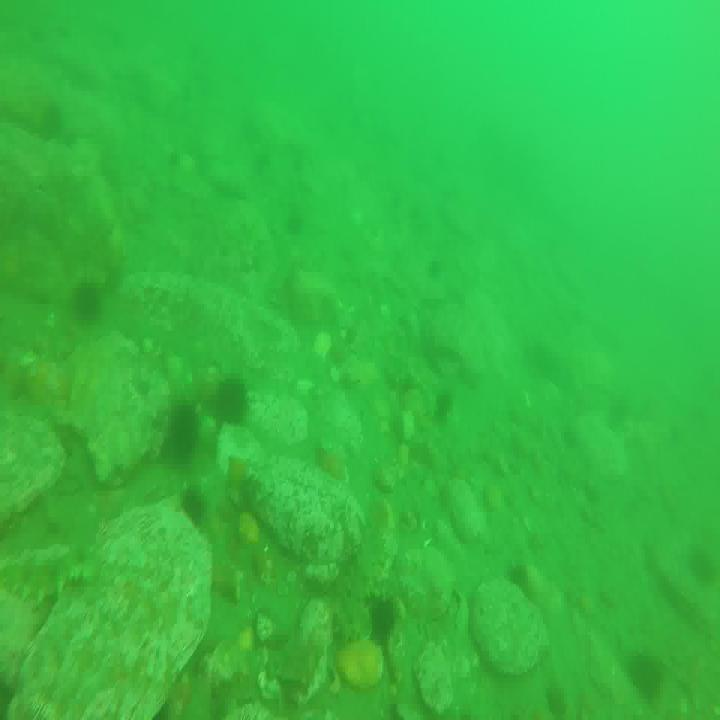echinus: (212, 372, 249, 433), (628, 652, 664, 706), (166, 404, 198, 464), (179, 490, 207, 541), (370, 592, 396, 646), (504, 556, 530, 602), (73, 284, 101, 323), (438, 389, 454, 423)
